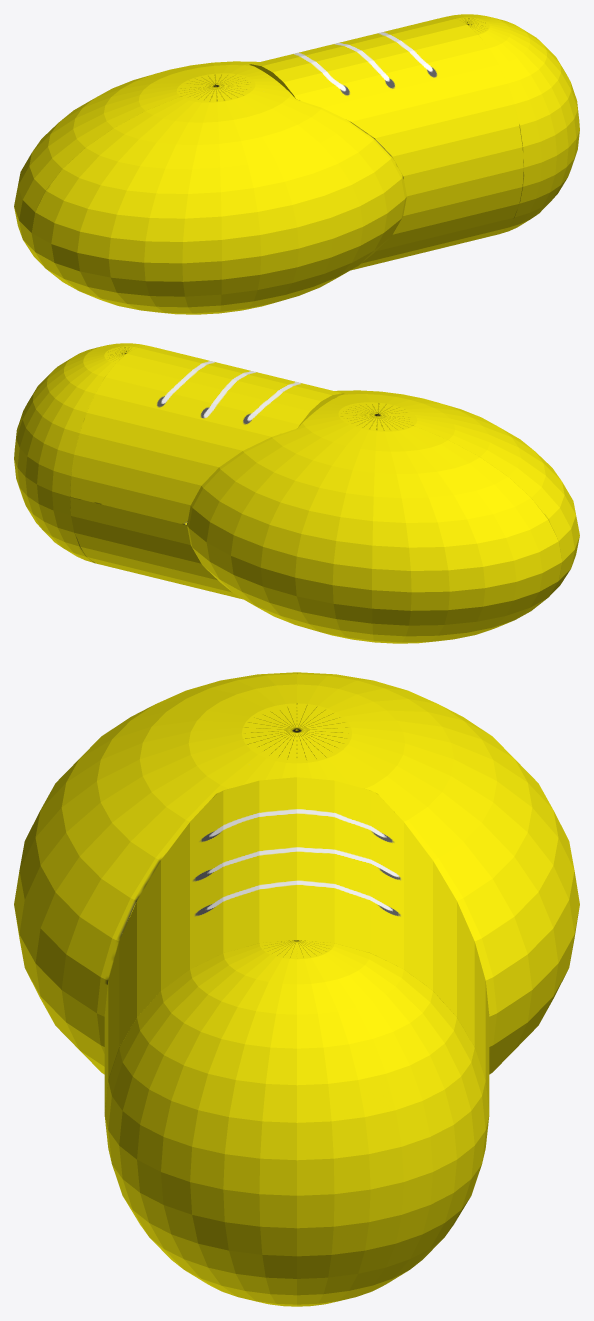
The model's file is shoes.fbx.
3 renders of one model, top to bottom at view 1: azimuth 30°, elevation 25°; view 2: azimuth 150°, elevation 25°; view 3: azimuth 270°, elevation 25°, orthographic. The views are drawn at different scales.
Parts seen in each view (by area): view 1: Shoes; view 2: Shoes; view 3: Shoes.
Boxes of the visible parts, x1,y1,x2,y2 form: Shoes: [14, 14, 579, 314]; Shoes: [14, 343, 579, 643]; Shoes: [14, 672, 579, 1306].
Bounding box in the file's own units: 548 × 200 × 294.
